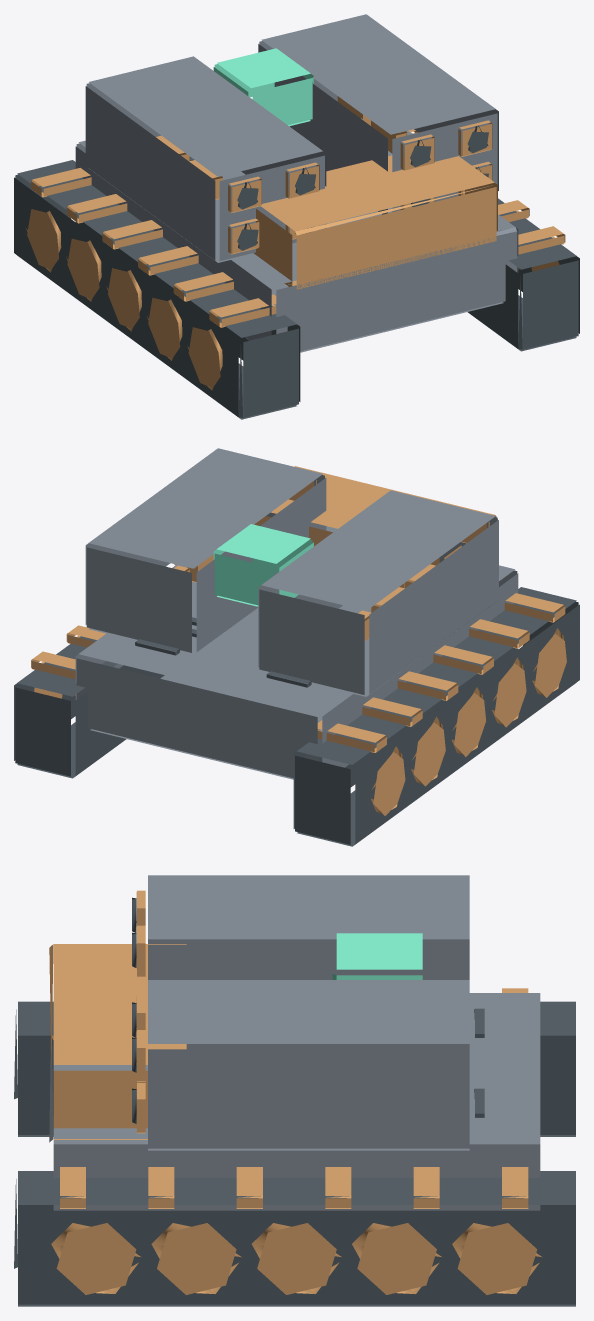
Rendered from boss-missile.glb.
The picture shows the model from 3 angles, top to bottom: view 1: azimuth 30°, elevation 25°; view 2: azimuth 150°, elevation 25°; view 3: azimuth 270°, elevation 25°; orthographic projection. The views are drawn at different scales.
Visible parts, largest first — view 1: MissilePod, CommandCab, Track, MissilePod.001, Chassis, Track.001, Core, Detail armored wheel, Detail armored wheel.003, Detail armored wheel.001, Detail armored wheel.002, Detail armored wheel.004 (+12 smaller); view 2: MissilePod, Chassis, MissilePod.001, Track, Track.001, Core, CommandCab, Detail armored wheel.001, Detail armored wheel.002, Detail armored wheel.004, Detail armored wheel, Detail armored wheel.003 (+8 smaller); view 3: MissilePod.001, Track.001, MissilePod, Chassis, CommandCab, Track, Detail armored wheel.008, Detail armored wheel.009, Detail armored wheel.005, Detail armored wheel.007, Detail armored wheel.006, Core (+6 smaller).
Boxes of the visible parts, x1=… form: MissilePod: x1=85, y1=56, x2=326, y2=262; CommandCab: x1=253, y1=155, x2=497, y2=289; Track: x1=14, y1=160, x2=300, y2=419; MissilePod.001: x1=258, y1=14, x2=498, y2=214; Chassis: x1=75, y1=118, x2=518, y2=352; Track.001: x1=467, y1=198, x2=579, y2=351; Core: x1=213, y1=48, x2=313, y2=126; Detail armored wheel: x1=187, y1=327, x2=222, y2=390; Detail armored wheel.003: x1=66, y1=238, x2=101, y2=301; Detail armored wheel.001: x1=147, y1=297, x2=182, y2=360; Detail armored wheel.002: x1=107, y1=268, x2=141, y2=331; Detail armored wheel.004: x1=26, y1=209, x2=61, y2=272; MissilePod: x1=258, y1=490, x2=498, y2=696; Chassis: x1=75, y1=526, x2=518, y2=779; MissilePod.001: x1=85, y1=448, x2=326, y2=652; Track: x1=293, y1=587, x2=579, y2=846; Track.001: x1=14, y1=636, x2=164, y2=778; Core: x1=213, y1=524, x2=313, y2=606; CommandCab: x1=254, y1=466, x2=497, y2=587; Detail armored wheel.001: x1=492, y1=657, x2=526, y2=727; Detail armored wheel.002: x1=451, y1=687, x2=485, y2=756; Detail armored wheel.004: x1=371, y1=746, x2=405, y2=815; Detail armored wheel: x1=532, y1=628, x2=566, y2=697; Detail armored wheel.003: x1=411, y1=717, x2=445, y2=786; MissilePod.001: x1=148, y1=980, x2=469, y2=1150; Track.001: x1=14, y1=1171, x2=575, y2=1306; MissilePod: x1=148, y1=875, x2=469, y2=979; Chassis: x1=49, y1=993, x2=540, y2=1210; CommandCab: x1=49, y1=944, x2=186, y2=1139; Track: x1=14, y1=1001, x2=575, y2=1136; Detail armored wheel.008: x1=352, y1=1223, x2=441, y2=1294; Detail armored wheel.009: x1=452, y1=1223, x2=542, y2=1294; Detail armored wheel.005: x1=51, y1=1223, x2=141, y2=1294; Detail armored wheel.007: x1=252, y1=1223, x2=341, y2=1294; Detail armored wheel.006: x1=151, y1=1223, x2=241, y2=1294; Core: x1=332, y1=933, x2=422, y2=979.
Size of the model in its own units: 4.21 by 2.37 by 4.8.
